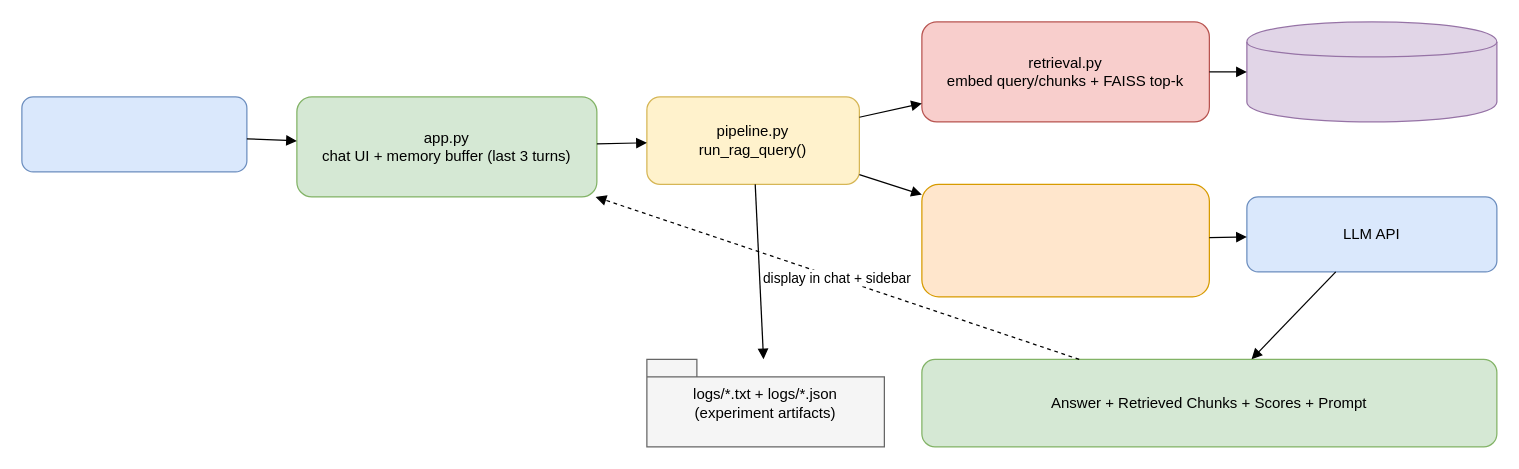
This 1519x469 diagram has some shape labels left out. The centre of each missing label's shape, as x and y in pixels:
data/all_chunks.json (CSV+PDF manual chunks): pixel 1371 71
Prompt Builder strict context-only instruction + memory + retrieved chunks: pixel 1065 240
User (Streamlit Chat): pixel 134 134
